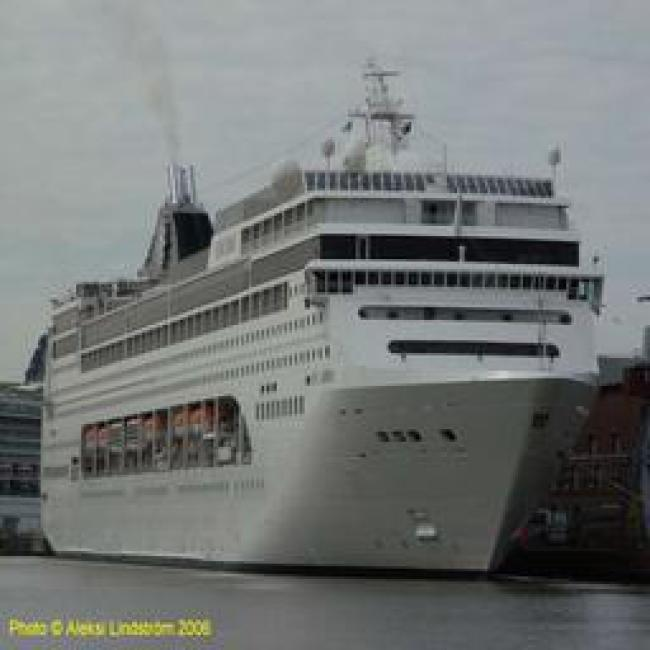Ship: (1, 218, 601, 591)
